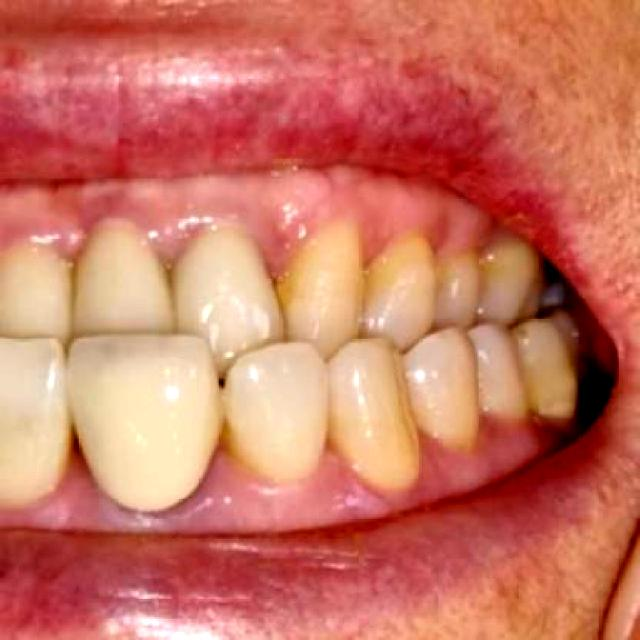Plaque: (62, 417, 550, 524), (4, 201, 125, 264), (133, 215, 216, 270), (253, 216, 324, 277), (360, 210, 407, 256)
